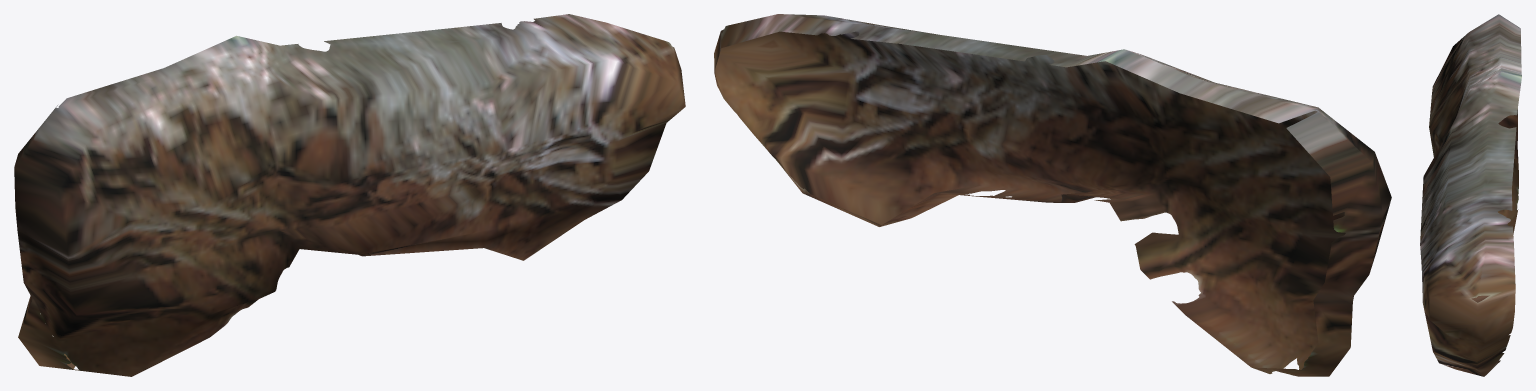
The model's file is bug_nest_3.FBX.
The picture shows the model from 3 angles, left to right: view 1: azimuth 30°, elevation 25°; view 2: azimuth 150°, elevation 25°; view 3: azimuth 270°, elevation 25°; orthographic projection. The views are drawn at different scales.
Visible parts, largest first — view 1: bug_nest_3; view 2: bug_nest_3; view 3: bug_nest_3.
Boxes of the visible parts, x1,y1,x2,y2 form: bug_nest_3: [14, 14, 685, 376]; bug_nest_3: [714, 14, 1391, 376]; bug_nest_3: [1420, 14, 1521, 376].
Bounding box in the file's own units: 93.76 × 39.2 × 16.08.
